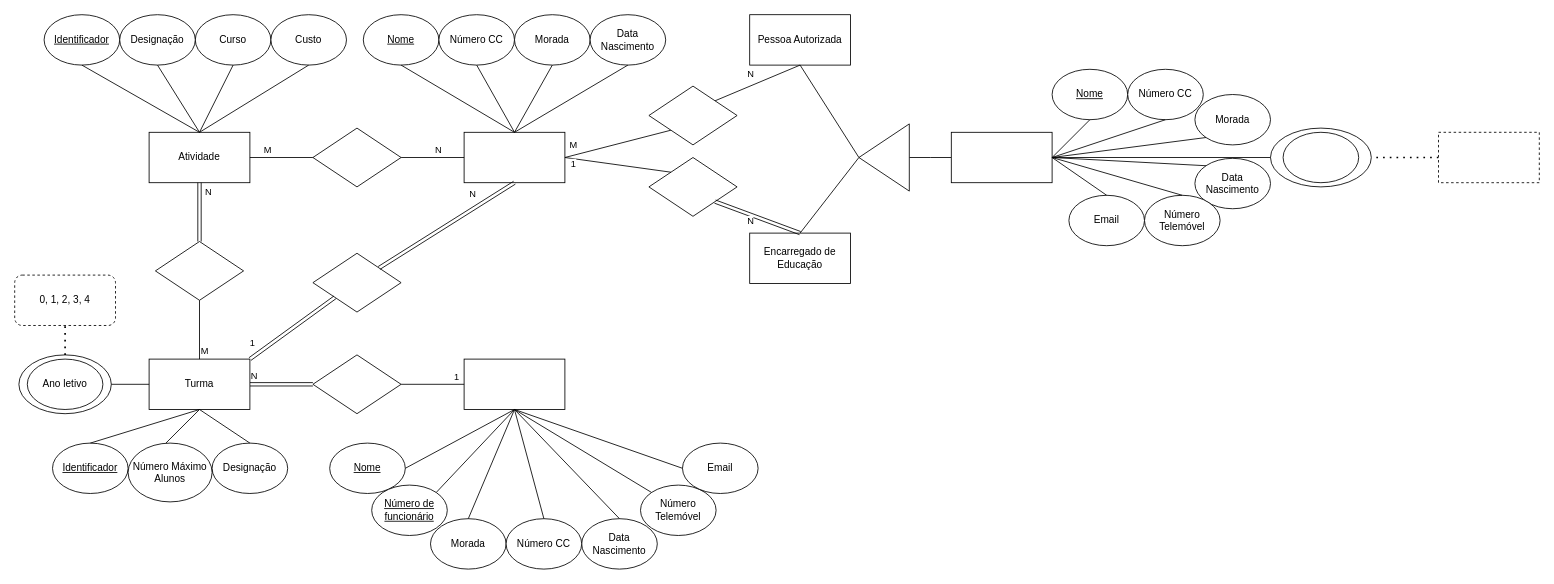
Some shapes in this 1554 by 584 pixel diagram are drawn without their labels. Here are the shapes that lost their labels. From the top down, the centre of each, then its label:
the point at 692,115: Entregar e Levantar
the point at 356,157: Participa
the point at 514,157: Aluno
the point at 883,157: IS-A
the point at 1001,157: Adulto
the point at 1320,157: Relação com o aluno
the point at 1488,157: Pai, mãe, avó, avô, etc...
the point at 692,186: Cuida
the point at 199,270: Fazem
the point at 356,282: Pertence
the point at 356,384: Tem
the point at 514,384: Professor
